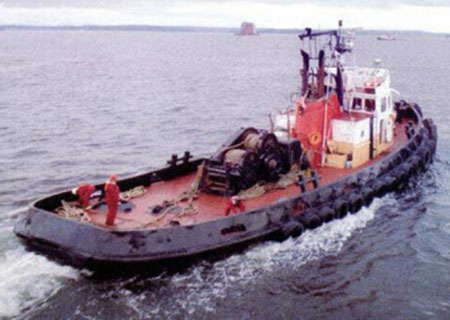otherboat: (14, 19, 436, 274)
